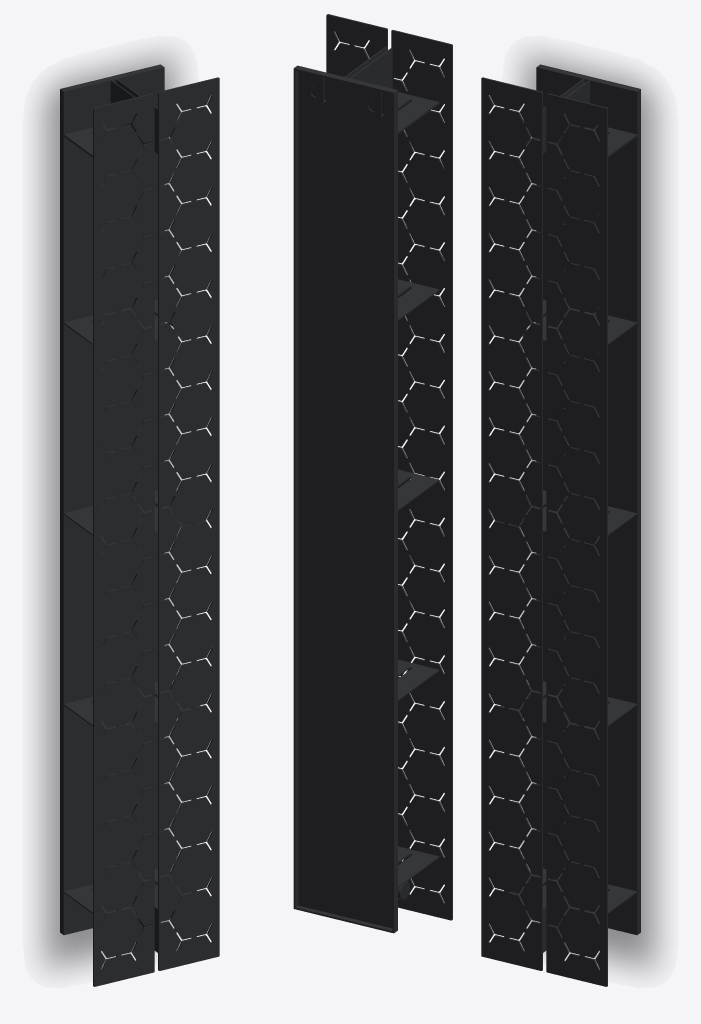
Rendered from bee-prima.34a2d18e8a.ar.glb.
3 views of the same model, side by side, from view 1: azimuth 30°, elevation 25°; view 2: azimuth 150°, elevation 25°; view 3: azimuth 330°, elevation 25° (orthographic).
Visible parts, largest first — view 1: NAUO1, object 2; view 2: NAUO1; view 3: NAUO1, object 2.
Part boxes in pixels (x1,y1,x2,y2): NAUO1: (60, 64, 219, 986); object 2: (39, 54, 181, 969); NAUO1: (293, 14, 452, 933); NAUO1: (481, 64, 640, 986); object 2: (519, 54, 661, 969).
Size of the model in its own units: 0.23 by 1.08 by 0.096.
Materials: 2 (1 with a texture image).
